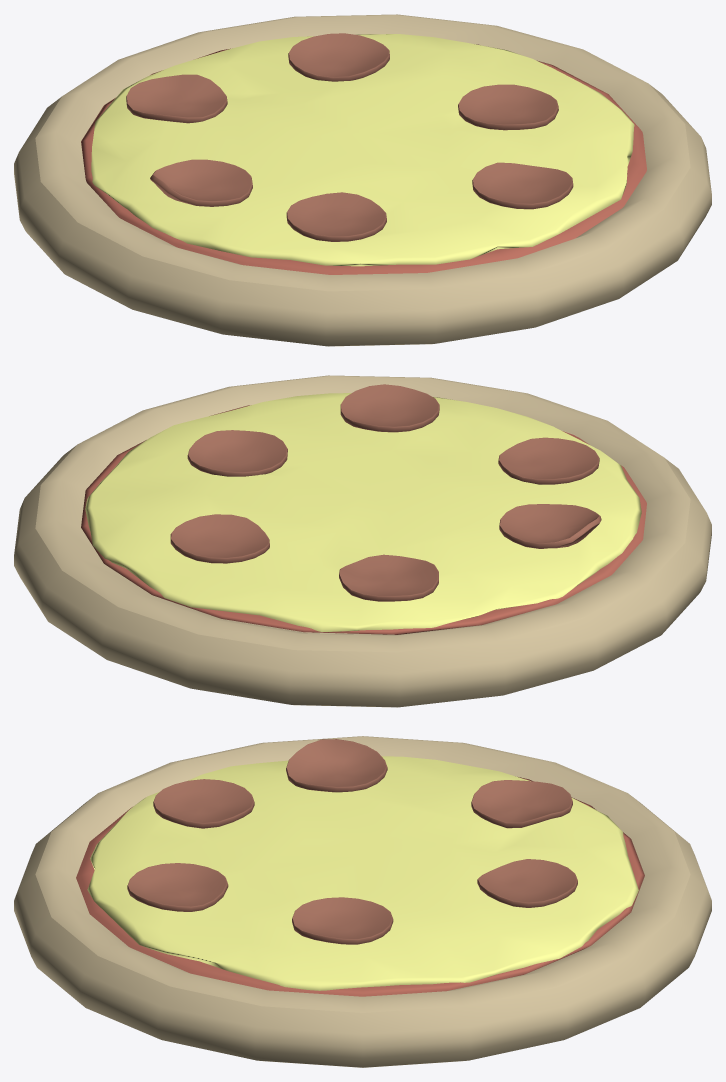
The model's file is thick_sausage.gltf.
The picture shows the model from 3 angles, top to bottom: view 1: azimuth 30°, elevation 25°; view 2: azimuth 150°, elevation 25°; view 3: azimuth 270°, elevation 25°; orthographic projection.
Visible parts, largest first — view 1: thick, cheese, polySurface145, polySurface143, polySurface147, polySurface146, polySurface142, polySurface144; view 2: thick, cheese, polySurface147, polySurface142, polySurface145, polySurface144, polySurface143, polySurface146; view 3: thick, cheese, polySurface146, polySurface144, polySurface143, polySurface142, polySurface145, polySurface147.
Part boxes in pixels (x1,y1,x2,y2): thick: (14, 14, 711, 346); cheese: (91, 34, 634, 266); polySurface145: (126, 74, 227, 123); polySurface143: (286, 192, 386, 241); polySurface147: (288, 33, 389, 81); polySurface146: (150, 159, 252, 206); polySurface142: (458, 84, 558, 130); polySurface144: (472, 162, 573, 209); thick: (14, 375, 711, 707); cheese: (85, 393, 641, 631); polySurface147: (170, 514, 269, 563); polySurface142: (187, 430, 287, 476); polySurface145: (339, 554, 438, 601); polySurface144: (340, 384, 439, 432); polySurface143: (498, 437, 599, 484); polySurface146: (499, 504, 601, 548); thick: (14, 736, 711, 1067); cheese: (87, 756, 638, 990); polySurface146: (286, 739, 387, 792); polySurface144: (127, 863, 228, 911); polySurface143: (153, 779, 254, 828); polySurface142: (292, 897, 393, 944); polySurface145: (471, 780, 572, 828); polySurface147: (477, 859, 577, 907).
Bounding box in the file's own units: 0.1035 × 0.0141 × 0.1035.
